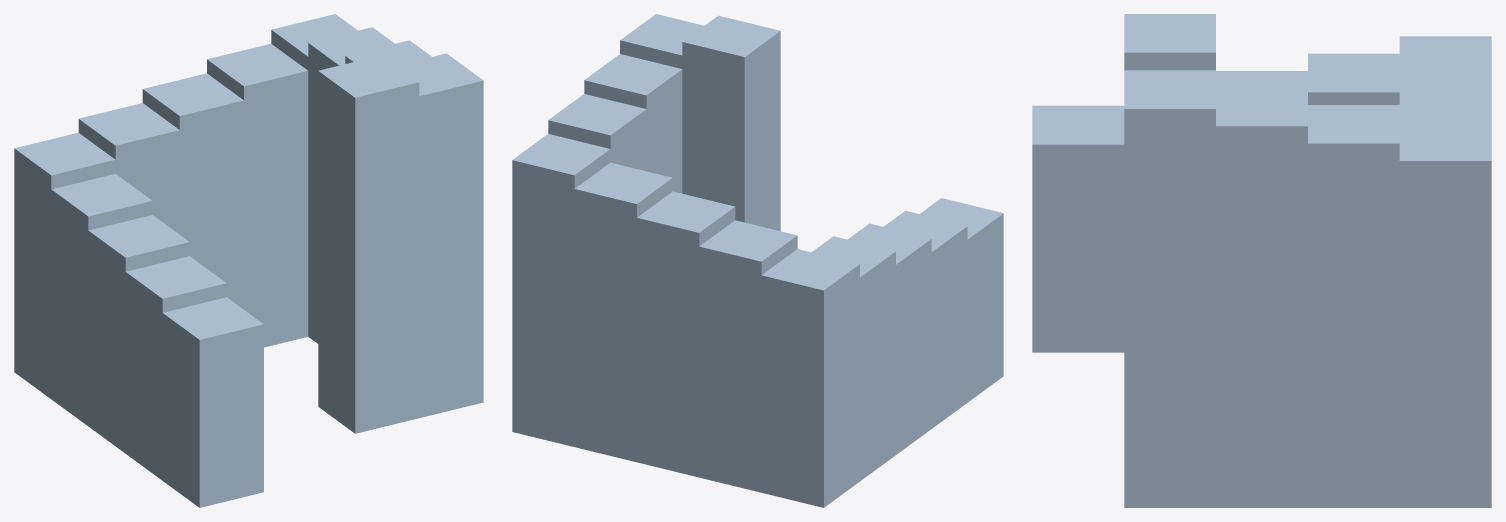
Rendered from stairs 1.fbx.
3 renders of one model, left to right at view 1: azimuth 30°, elevation 25°; view 2: azimuth 150°, elevation 25°; view 3: azimuth 270°, elevation 25°, orthographic. The views are drawn at different scales.
Visible parts, largest first — view 1: stairs; view 2: stairs; view 3: stairs.
Part boxes in pixels (<box>): stairs: <box>14,14,483,507</box>; stairs: <box>512,14,1003,507</box>; stairs: <box>1032,14,1491,507</box>.
Size of the model in its own units: 30 by 30 by 30.
